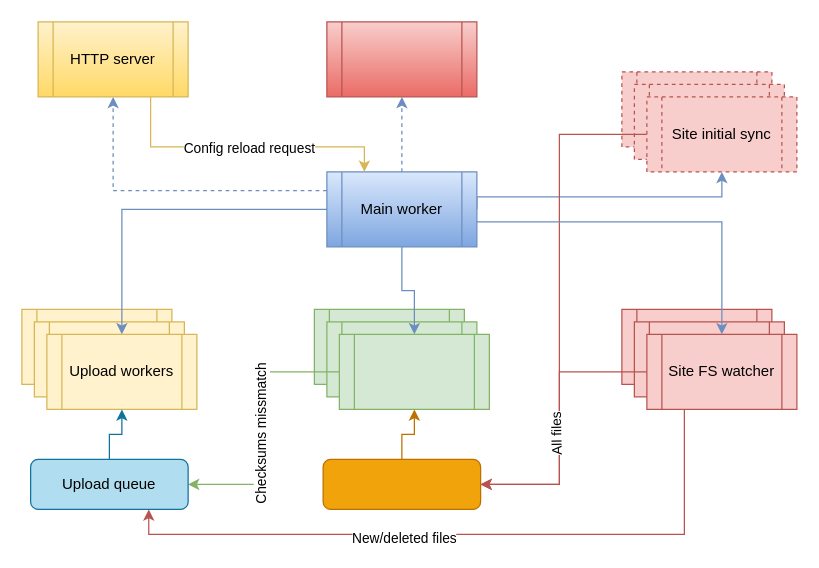
The diagram is 819 pixels wide and 568 high, and some of its shapes have lost their labels. Each missing label, with the box of its shape:
Checksum queue: (322, 458, 481, 509)
Checksum workers: (338, 333, 489, 409)
Prometheus exporter: (326, 21, 477, 97)
